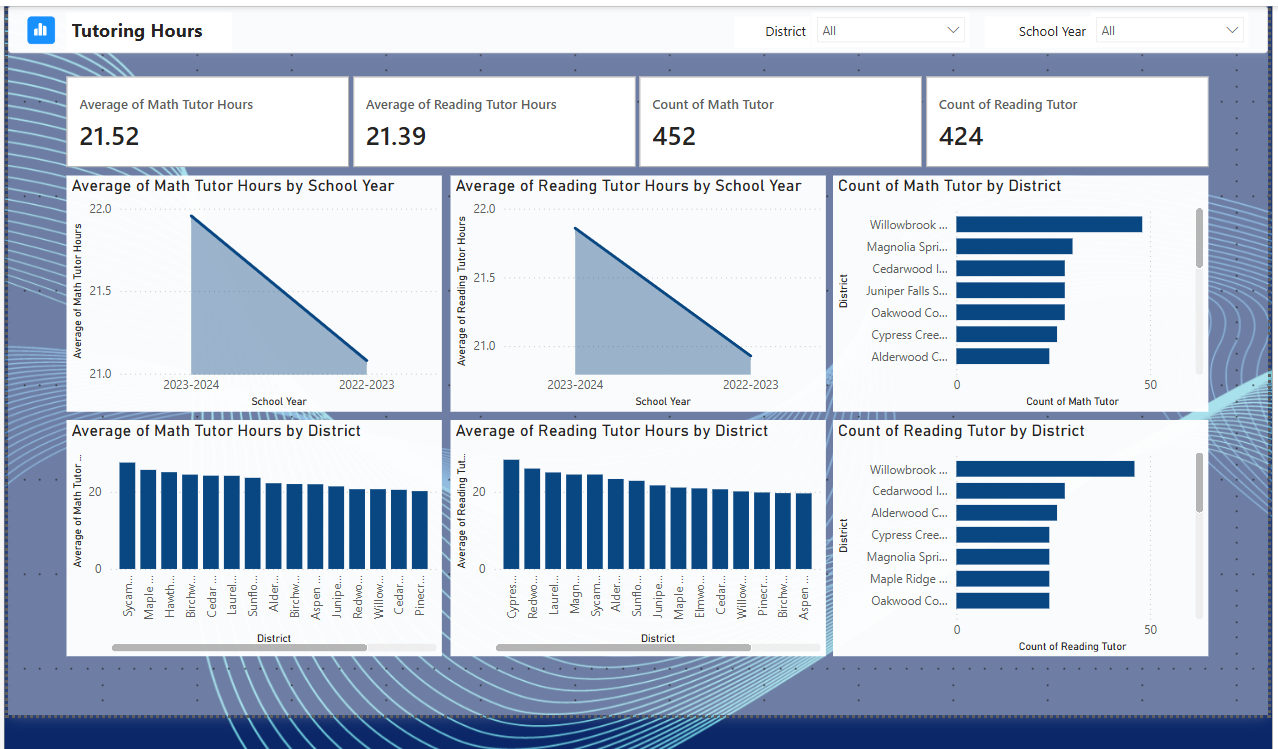

What the dashboard file says about the page in this screenshot:
{"tool":"powerbi","page":{"name":"Tutoring Hours","canvas":[1280,720],"ordinal":1},"visuals":[{"type":"barChart","fields":{"Category":["Test Scores.District"],"Y":["CountNonNull(Test Scores.Reading Tutor)"]},"box":[838,420,381,240],"z":0},{"type":"shape","box":[0,0,1280,48],"z":1000},{"type":"barChart","fields":{"Category":["Test Scores.District"],"Y":["CountNonNull(Test Scores.Math Tutor)"]},"box":[838,172,381,240],"z":2000},{"type":"columnChart","fields":{"Category":["Test Scores.District"],"Y":["Avg(Test Scores.Reading Tutor Hours)"]},"box":[449,420,381,240],"z":3000},{"type":"areaChart","fields":{"Category":["Test Scores.School Year"],"Y":["Avg(Test Scores.Reading Tutor Hours)"]},"box":[449,172,381,240],"z":4000},{"type":"columnChart","fields":{"Category":["Test Scores.District"],"Y":["Avg(Test Scores.Math Tutor Hours)"]},"box":[60,420,381,240],"z":5000},{"type":"areaChart","fields":{"Category":["Test Scores.School Year"],"Y":["Avg(Test Scores.Math Tutor Hours)"]},"box":[60,172,381,240],"z":6000},{"type":"cardVisual","fields":{"Data":["Avg(Test Scores.Math Tutor Hours)","Avg(Test Scores.Reading Tutor Hours)","CountNonNull(Test Scores.Math Tutor)","CountNonNull(Test Scores.Reading Tutor)"]},"box":[60,72,1160,92],"z":7000},{"type":"textbox","box":[738,10,78,32],"z":8000},{"type":"slicer","fields":{"Values":["Test Scores.District"]},"box":[816,6,160,36],"z":9000},{"type":"textbox","box":[992,10,108,32],"z":10000},{"type":"slicer","fields":{"Values":["Test Scores.School Year"]},"box":[1100,6,160,36],"z":11000},{"type":"textbox","box":[60,6,168,40],"z":12000},{"type":"image","box":[20,10,28,28],"z":13000}]}

Visuals, with their boxes in screenshot pixels (x1, y1, x2, y2):
barChart - Test Scores.District x CountNonNull(Test Scores.Reading Tutor): (828, 417, 1204, 653)
shape: (3, 3, 1264, 51)
barChart - Test Scores.District x CountNonNull(Test Scores.Math Tutor): (828, 173, 1204, 409)
columnChart - Test Scores.District x Avg(Test Scores.Reading Tutor Hours): (445, 417, 821, 653)
areaChart - Test Scores.School Year x Avg(Test Scores.Reading Tutor Hours): (445, 173, 821, 409)
columnChart - Test Scores.District x Avg(Test Scores.Math Tutor Hours): (62, 417, 438, 653)
areaChart - Test Scores.School Year x Avg(Test Scores.Math Tutor Hours): (62, 173, 438, 409)
cardVisual - Avg(Test Scores.Math Tutor Hours) x Avg(Test Scores.Reading Tutor Hours): (62, 74, 1205, 165)
textbox: (730, 13, 807, 45)
slicer - Test Scores.District: (807, 9, 964, 45)
textbox: (980, 13, 1086, 45)
slicer - Test Scores.School Year: (1086, 9, 1244, 45)
textbox: (62, 9, 228, 49)
image: (23, 13, 51, 41)
